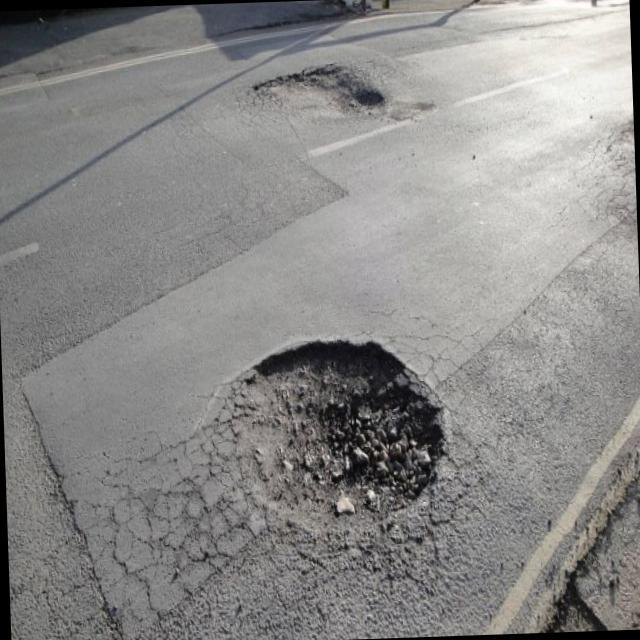Pothole: (132, 316, 464, 532), (245, 46, 389, 140)
